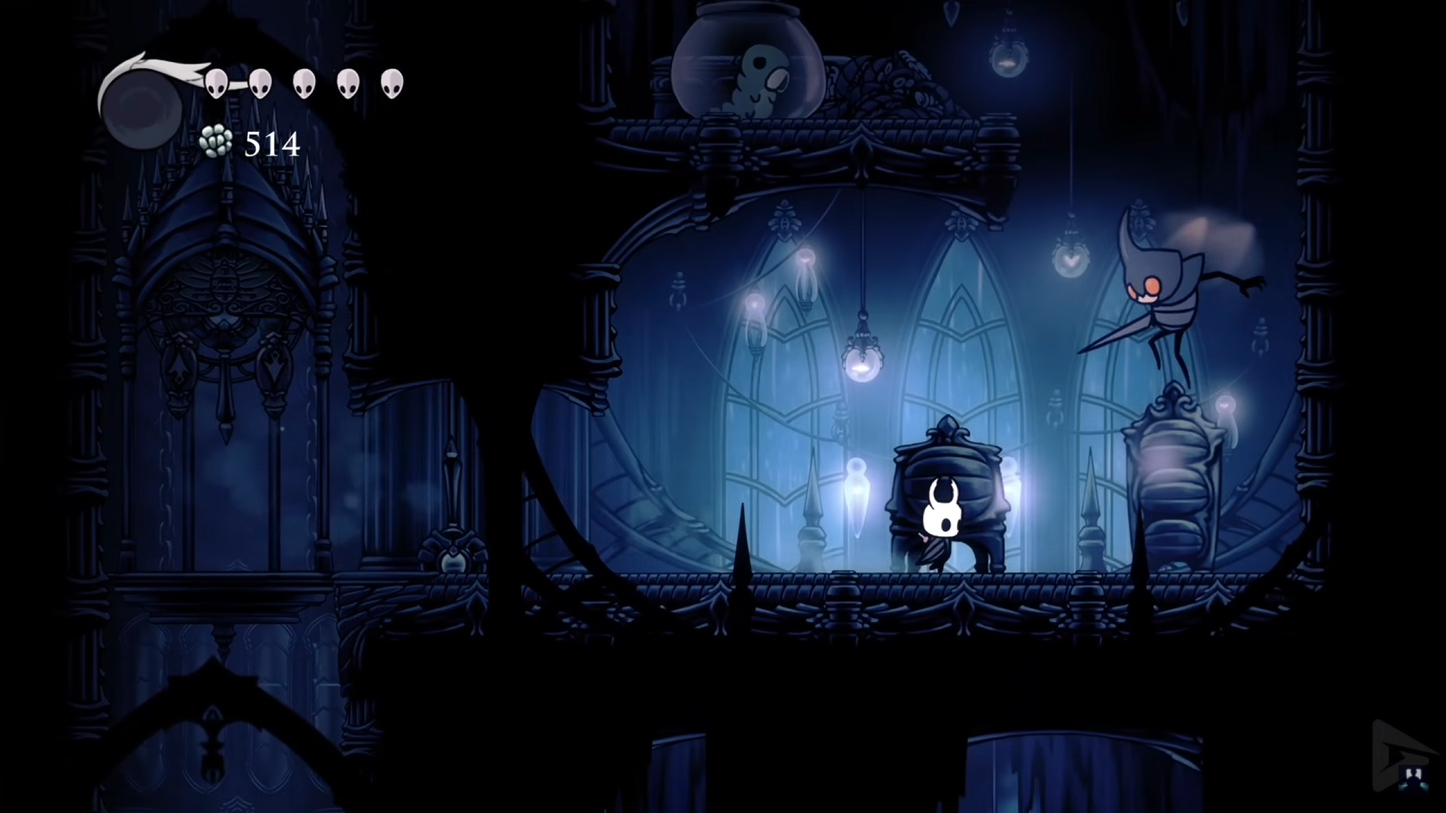HK: (906, 473, 969, 573)
